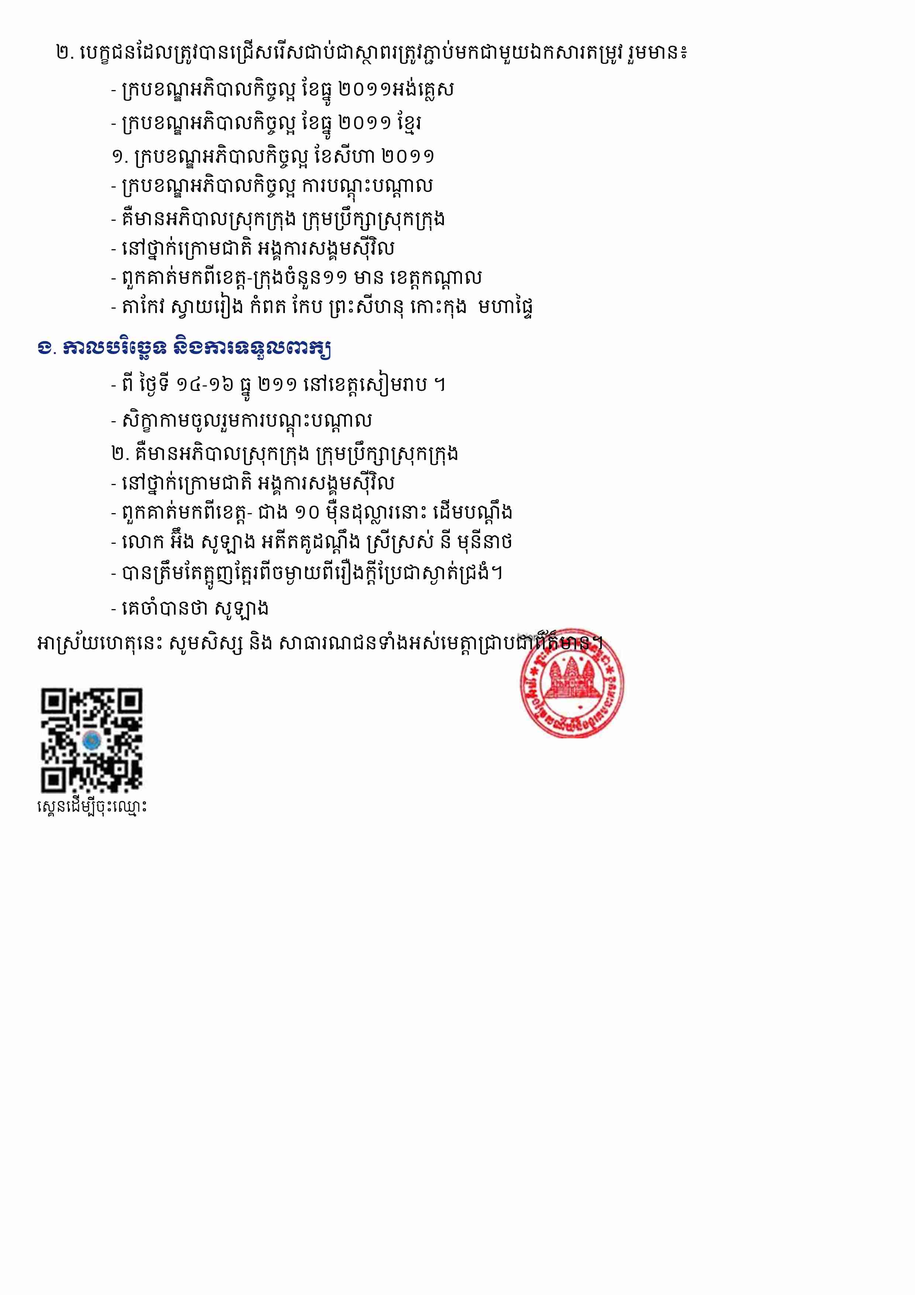decorative: (37, 683, 148, 794), (517, 628, 627, 738)
text: (55, 39, 689, 65), (37, 630, 604, 655), (111, 558, 503, 590), (111, 292, 534, 319), (111, 527, 513, 554), (111, 370, 446, 402), (111, 499, 514, 525), (111, 76, 455, 106), (111, 173, 434, 203), (111, 264, 483, 290), (111, 110, 422, 140), (111, 440, 459, 466), (111, 205, 446, 231), (111, 143, 435, 169), (37, 334, 331, 360), (111, 408, 373, 437), (111, 235, 395, 261), (111, 470, 395, 495), (111, 596, 270, 621), (37, 794, 148, 817)
